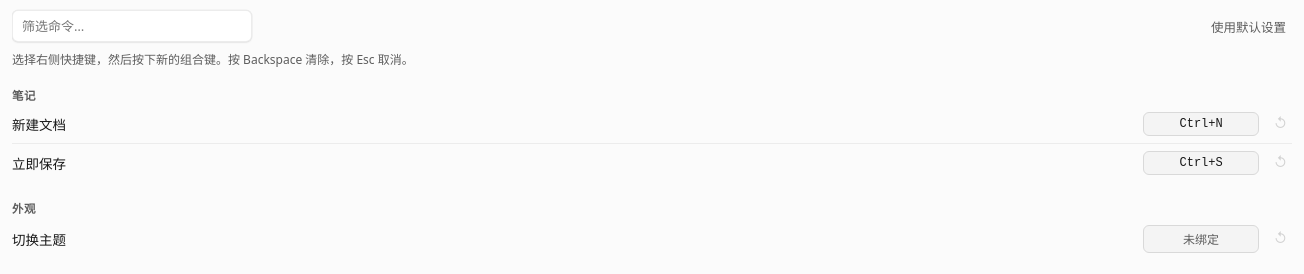
快捷键设置 › Backspace 解绑，和「没改过」不是一回事
Click the button with class "key-cap" showing "Ctrl+N".
click(1201, 124)  # box [1143,112,1259,136]
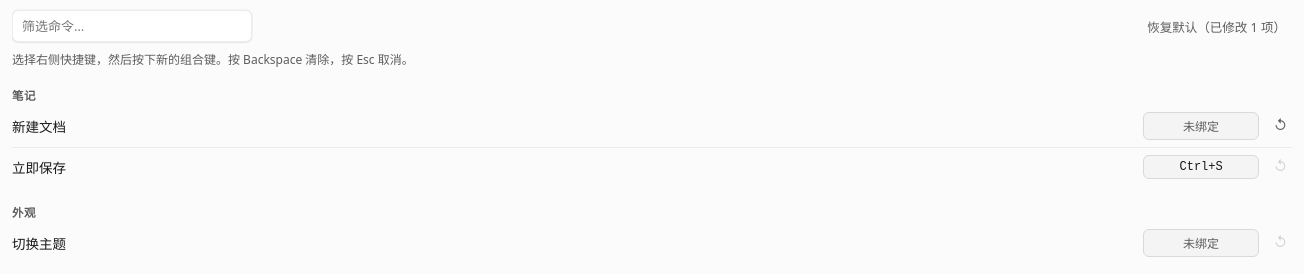
Check: the button with class "key-cap" in the row of "新建文档" reads "未绑定", box [1143,112,1259,140]
